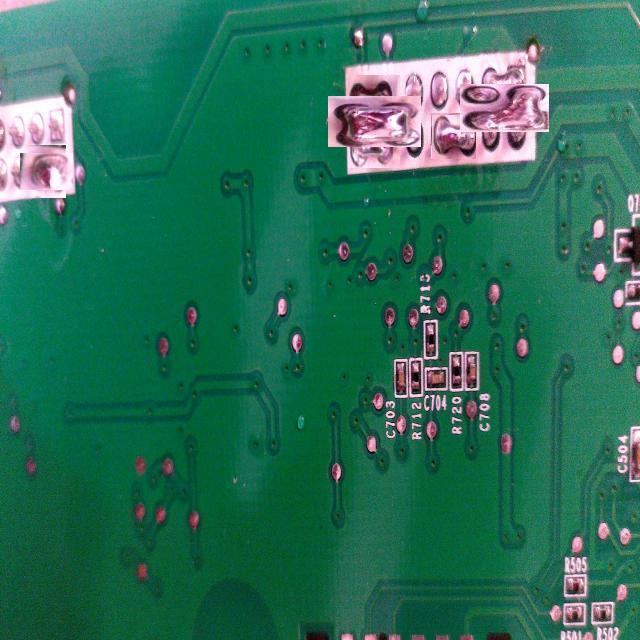Short_circuit: (338, 85, 411, 158), (469, 74, 539, 142), (24, 149, 70, 194), (431, 114, 476, 160)
